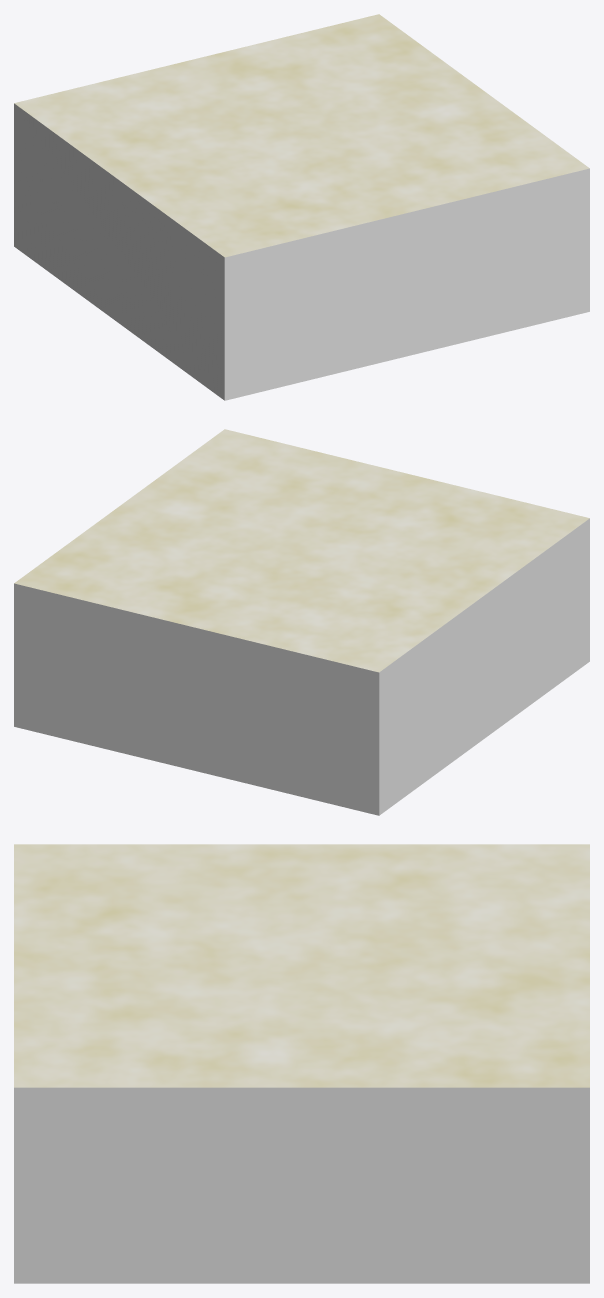
File: simpleroom.fbx
The picture shows the model from 3 angles, top to bottom: view 1: azimuth 30°, elevation 25°; view 2: azimuth 150°, elevation 25°; view 3: azimuth 270°, elevation 25°; orthographic projection. The views are drawn at different scales.
Visible parts, largest first — view 1: 平面.015; view 2: 平面.015; view 3: 平面.015.
Boxes of the visible parts, box(x1,y1,x2,y2) form: 平面.015: box(14, 14, 589, 400); 平面.015: box(14, 429, 589, 815); 平面.015: box(14, 844, 589, 1283).
Size of the model in its own units: 800 by 300 by 800.
2 materials, 2 textured.
